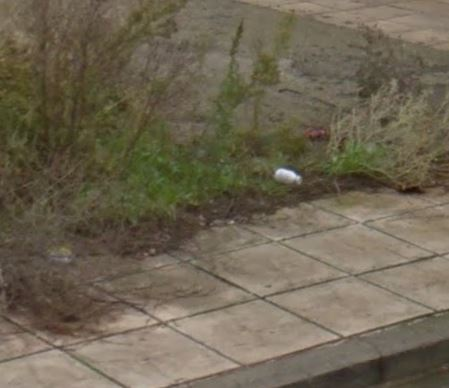trash: (260, 160, 302, 194), (304, 128, 334, 142)
